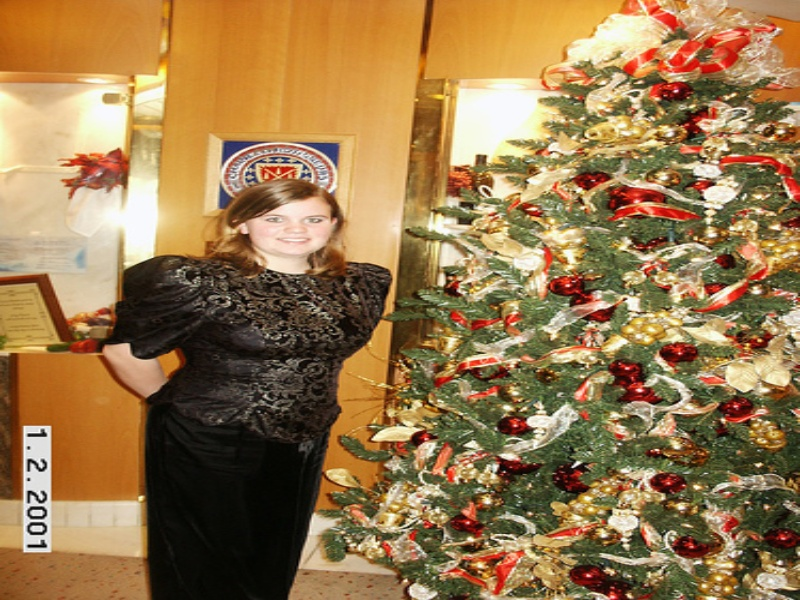person: (102, 179, 393, 600)
